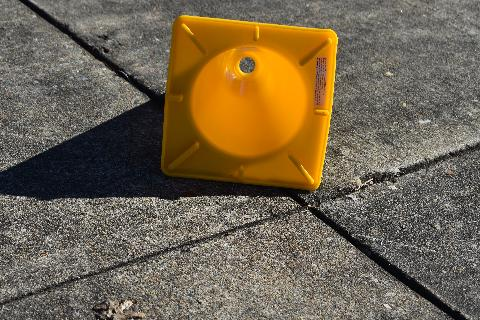cone: (161, 16, 338, 190)
